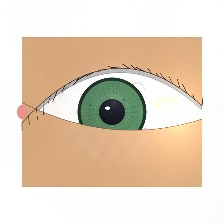pinguecula_lesion: (142, 84, 192, 124)
